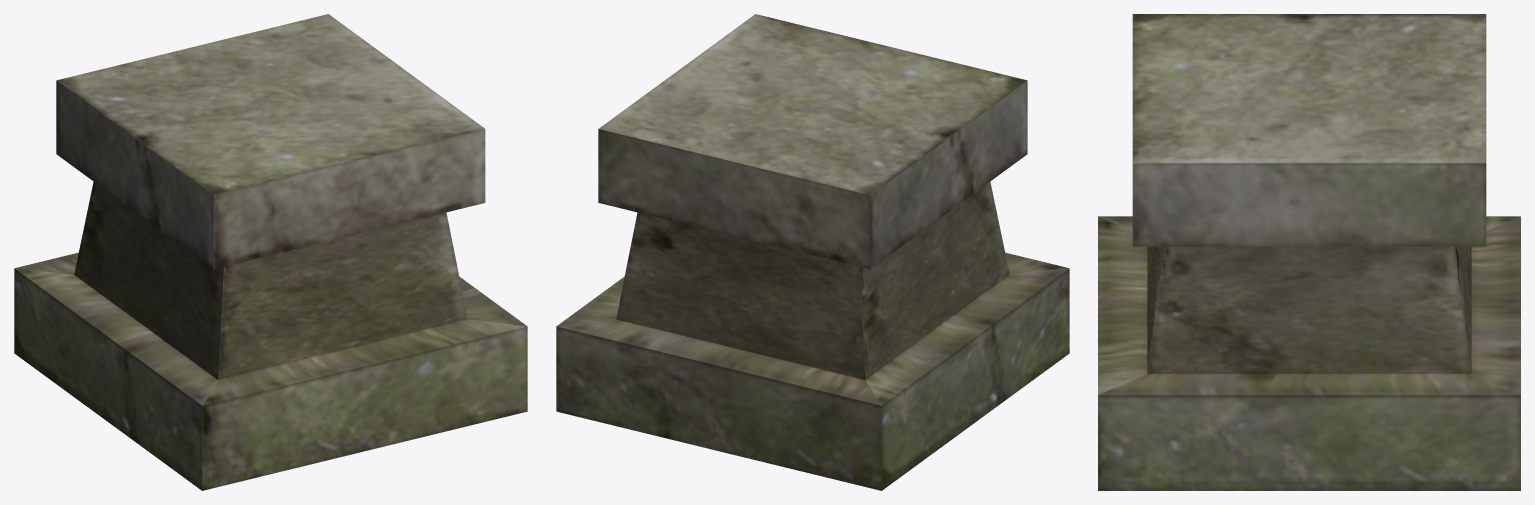
The model's file is a_stone005.FBX.
The picture shows the model from 3 angles, left to right: view 1: azimuth 30°, elevation 25°; view 2: azimuth 150°, elevation 25°; view 3: azimuth 270°, elevation 25°; orthographic projection. The views are drawn at different scales.
Parts seen in each view (by area): view 1: a_stone005; view 2: a_stone005; view 3: a_stone005.
Part boxes in pixels (box(x1,y1,x2,y2)): a_stone005: box(14, 14, 527, 490); a_stone005: box(556, 14, 1069, 490); a_stone005: box(1098, 14, 1520, 490).
Bounding box in the file's own units: 208 × 170 × 208.
